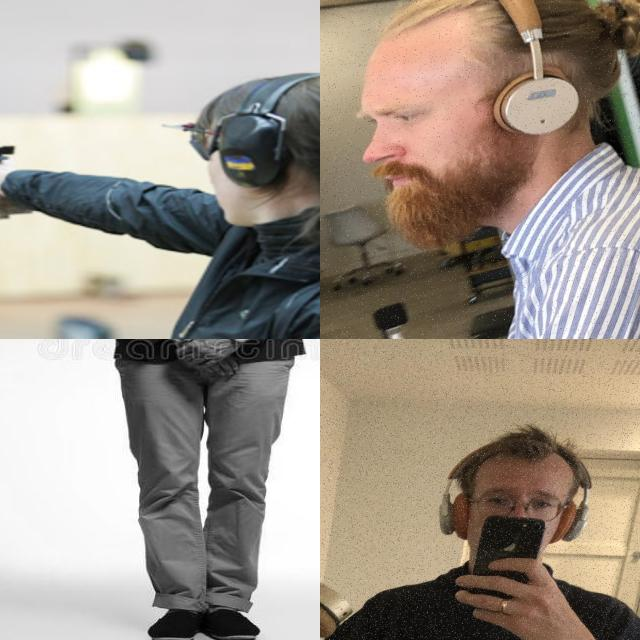Ear-protection: (165, 67, 320, 230), (476, 52, 599, 157), (410, 489, 608, 548)
No_Glasses: (358, 92, 427, 138)
glasses: (470, 492, 566, 526)
hand_noglove: (169, 339, 245, 378)
head_nohelmet: (438, 411, 585, 492)
person: (320, 392, 640, 640), (83, 339, 320, 640)
